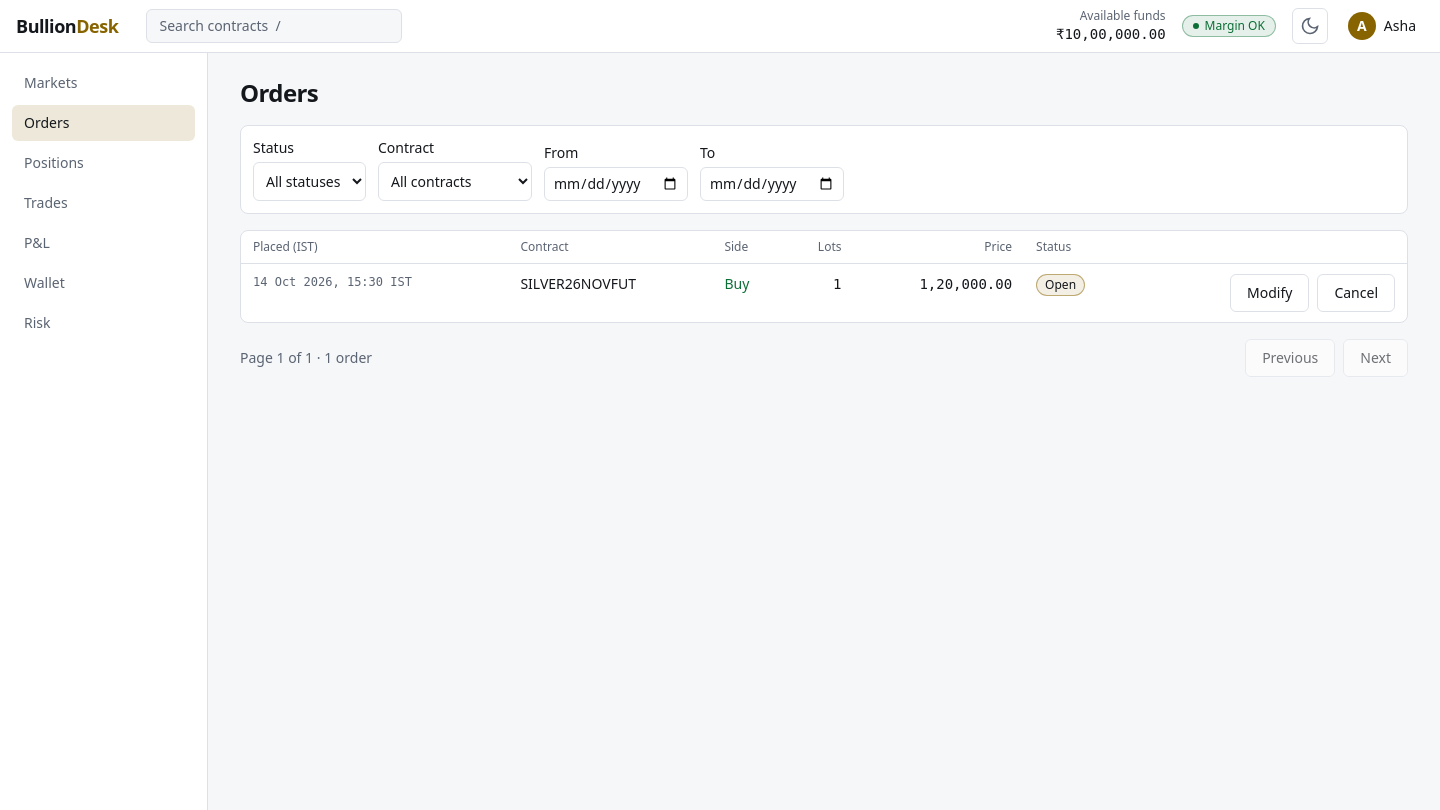
Test: orders page › explains a modify that needs more margin (422)
Step 1. Click the button with aria-label "Modify order SILVER26NOVFUT" → [1270, 293], box left=1230, top=274, right=1309, bottom=312
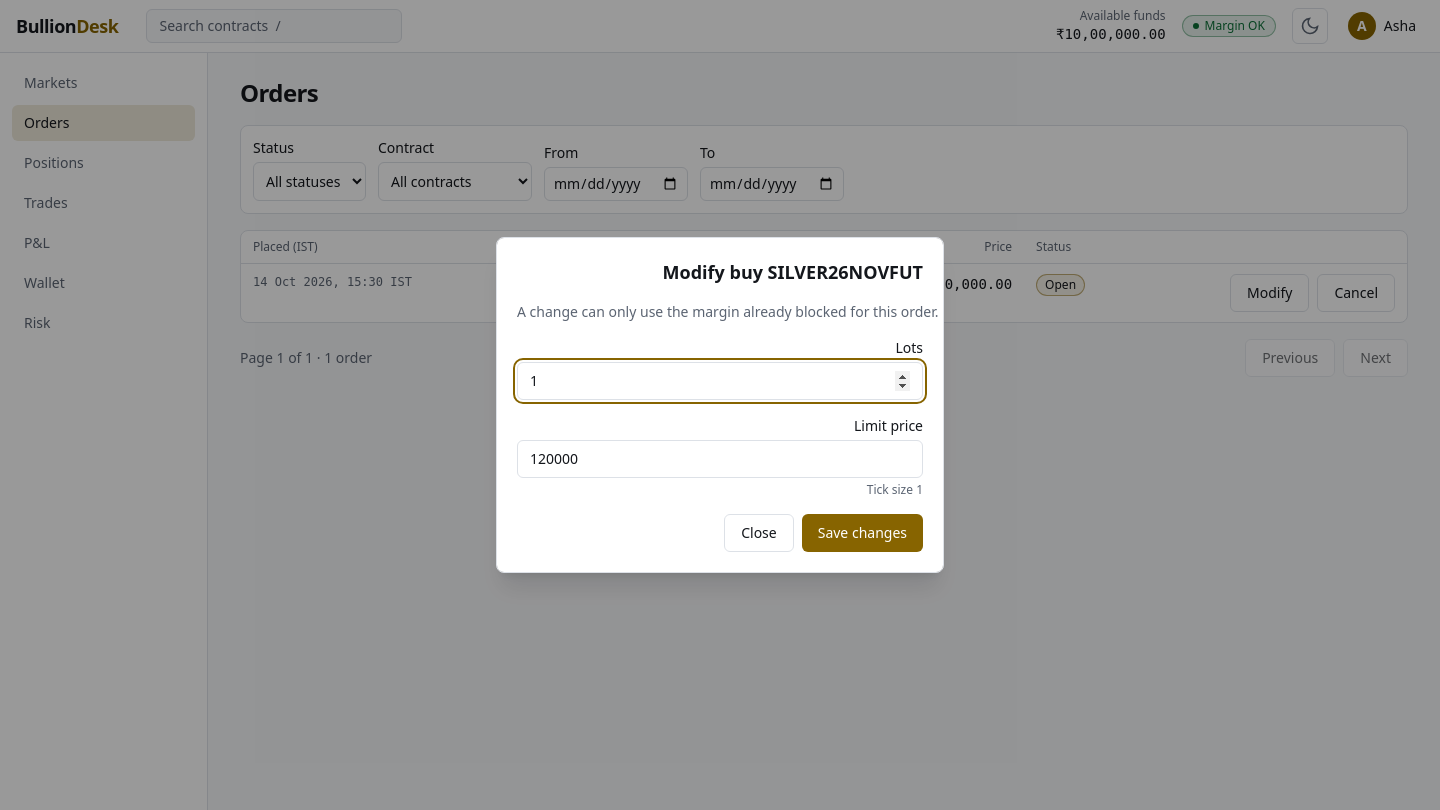
Step 2. Replace the text in the number field labelled "Lots" with "5" → [720, 381], box left=517, top=362, right=923, bottom=400
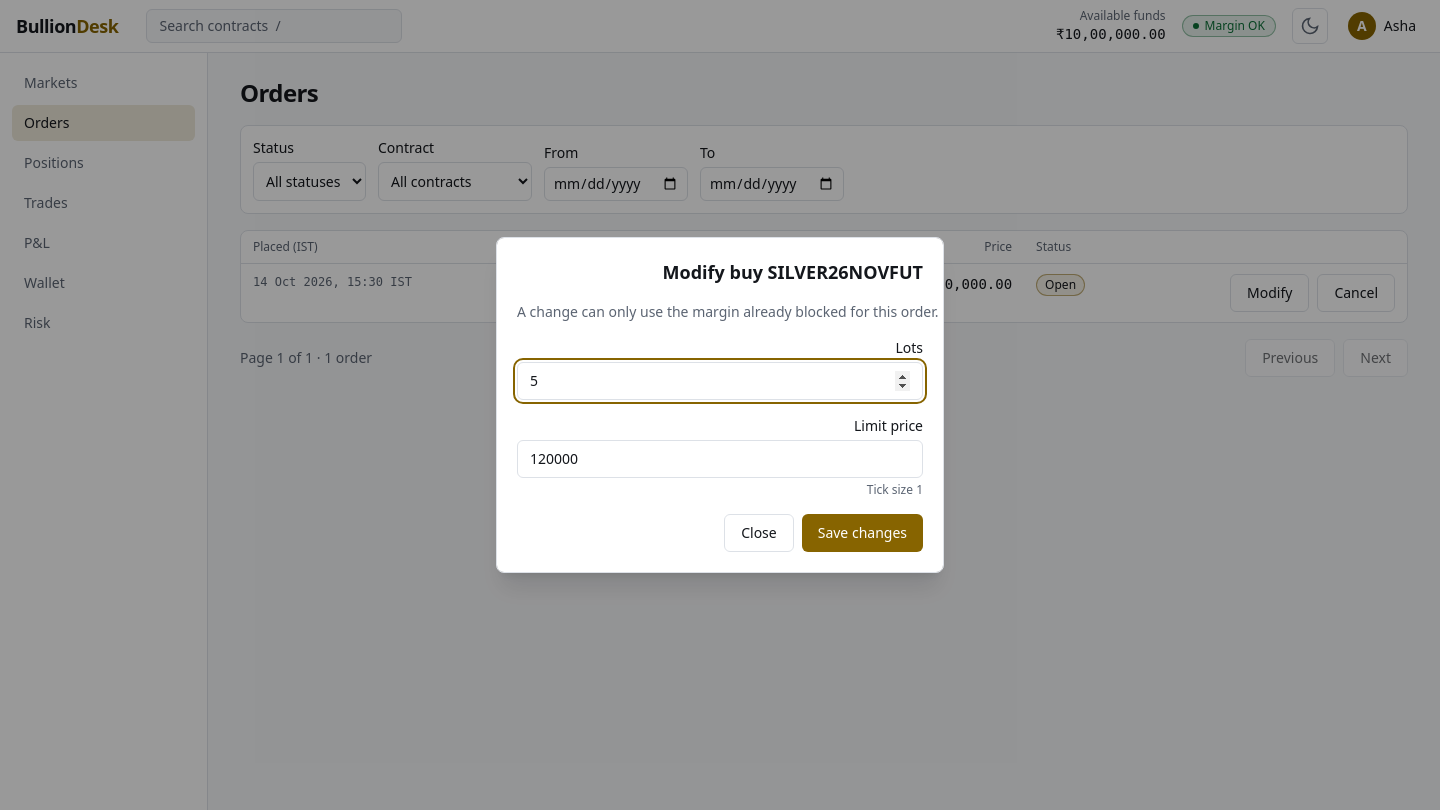
Step 3. Click the button "Save changes" → [862, 533], box left=802, top=514, right=923, bottom=552
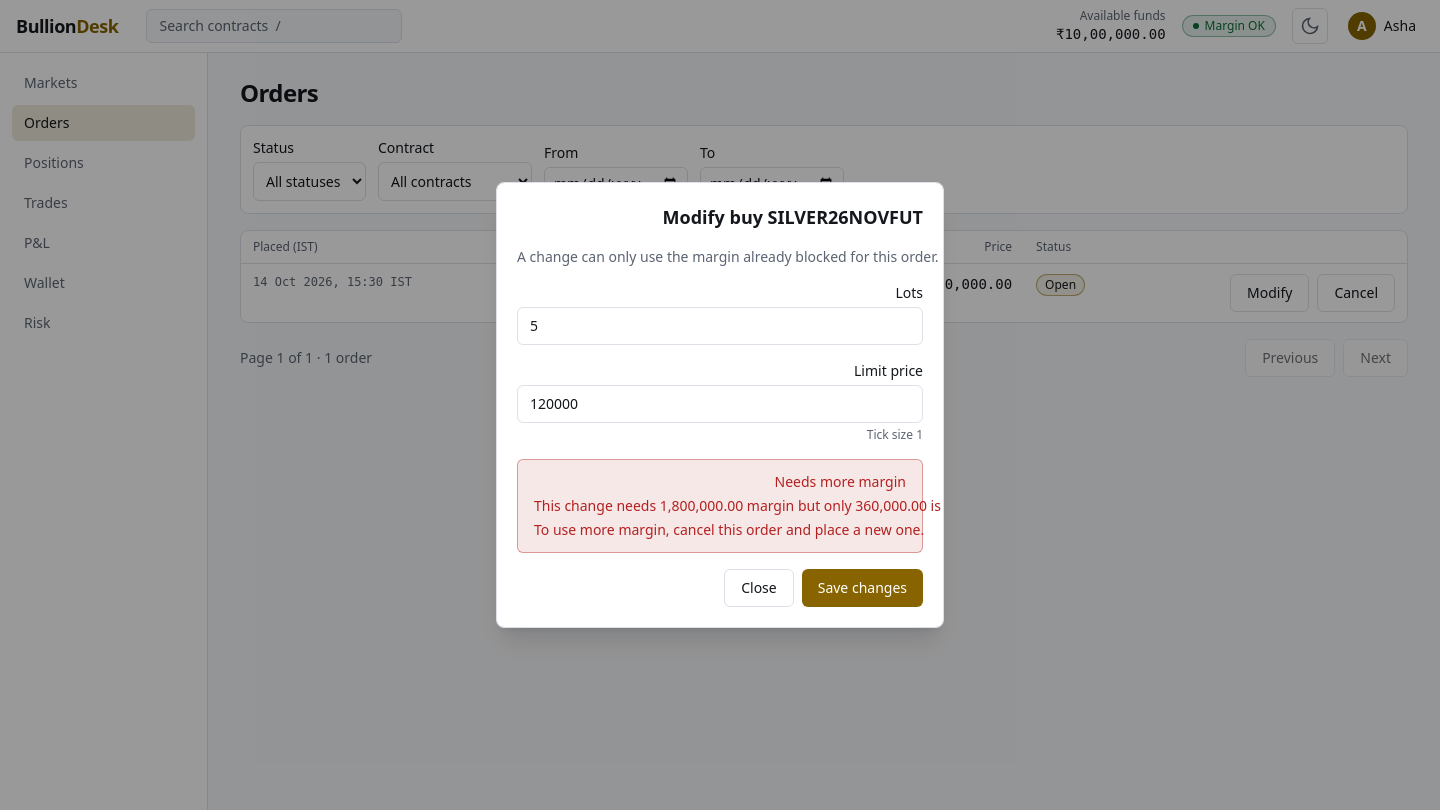
Result: the message shows "Needs more margin" at left=774, top=472, right=906, bottom=491
Result: the message shows "cancel this order and place a new one" at left=534, top=520, right=924, bottom=539
